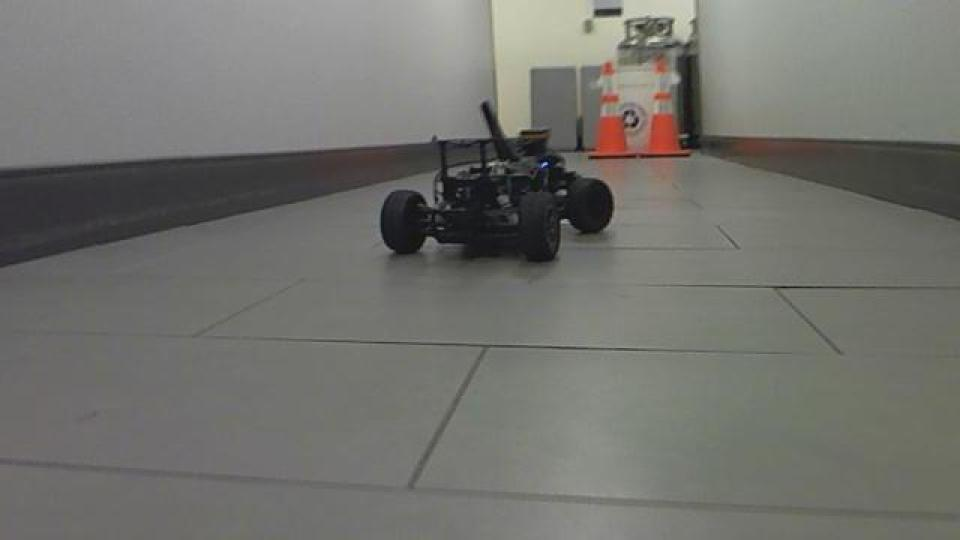car: (375, 98, 617, 266)
